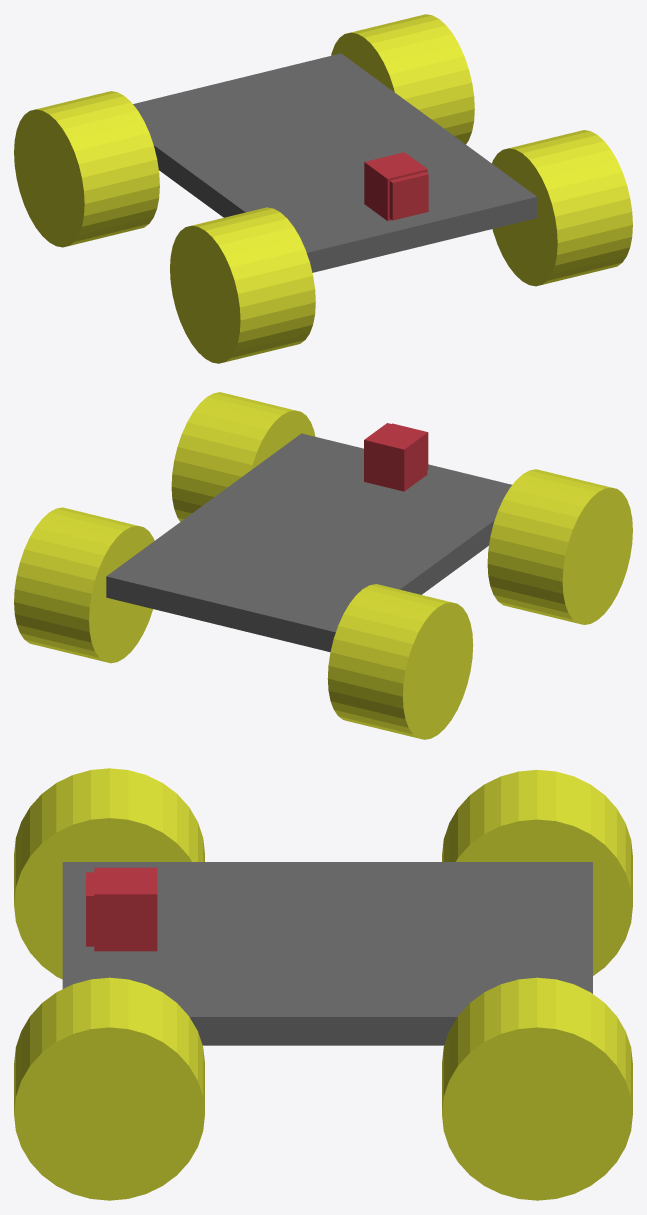
Rendered from Rovercar.fbx.
3 renders of one model, top to bottom at view 1: azimuth 30°, elevation 25°; view 2: azimuth 150°, elevation 25°; view 3: azimuth 270°, elevation 25°, orthographic. The views are drawn at different scales.
Visible parts, largest first — view 1: Body, Tire3, Tire4, Tire1, Tire2, Sonar; view 2: Body, Tire3, Tire4, Tire2, Tire1, Sonar; view 3: Body, Tire1, Tire2, Tire3, Tire4, Sonar.
Part boxes in pixels (left/top/right/bottom): Body: left=133, top=53, right=537, bottom=272; Tire3: left=170, top=207, right=315, bottom=363; Tire4: left=14, top=91, right=159, bottom=247; Tire1: left=492, top=130, right=632, bottom=286; Tire2: left=331, top=14, right=474, bottom=144; Sonar: left=364, top=152, right=428, bottom=220; Body: left=106, top=433, right=511, bottom=651; Tire3: left=487, top=469, right=632, bottom=624; Tire4: left=327, top=584, right=473, bottom=739; Tire2: left=14, top=507, right=154, bottom=663; Tire1: left=171, top=392, right=315, bottom=521; Sonar: left=364, top=423, right=428, bottom=491; Body: left=62, top=862, right=592, bottom=1045; Tire1: left=14, top=977, right=204, bottom=1200; Tire2: left=442, top=977, right=632, bottom=1200; Tire3: left=14, top=768, right=204, bottom=979; Tire4: left=442, top=769, right=632, bottom=975; Sonar: left=86, top=867, right=157, bottom=951.
Bounding box in the file's own units: 63.75 × 64.36 × 21.85.
